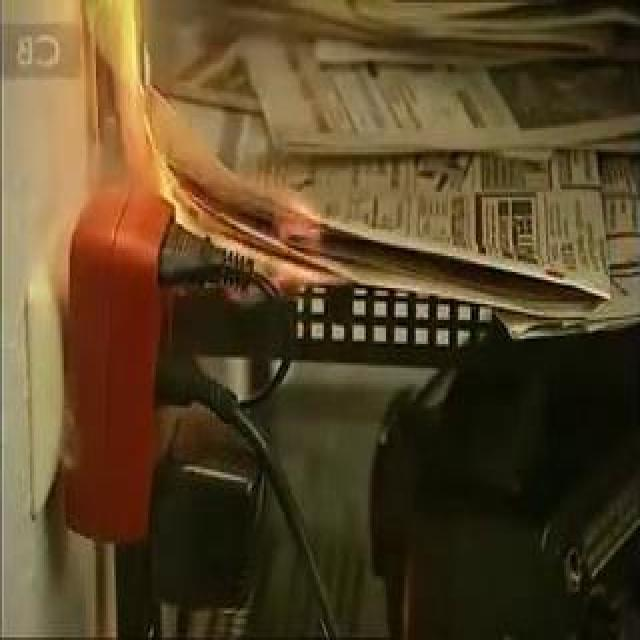Fire: (87, 21, 371, 312)
